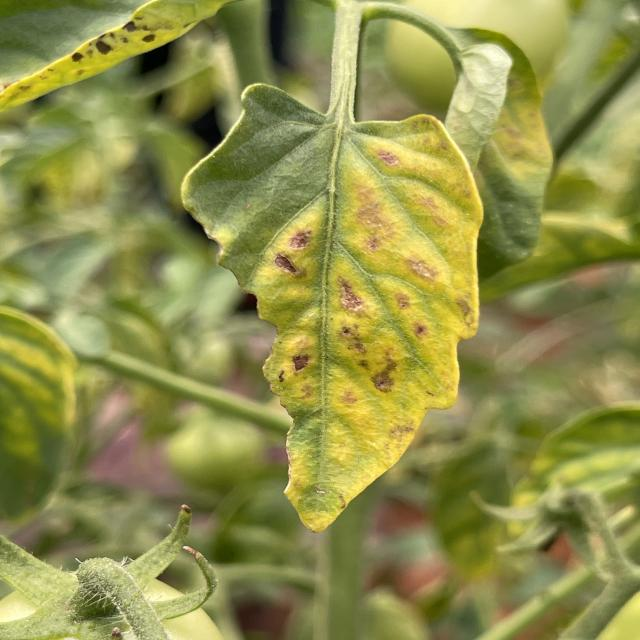tomato_early blight: (195, 77, 475, 536), (432, 22, 562, 262), (0, 0, 232, 110), (0, 307, 72, 516)
